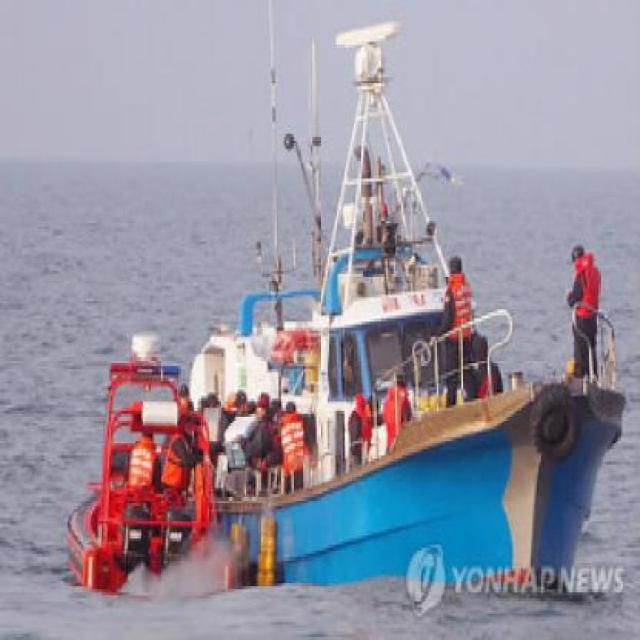fish-b: (65, 1, 639, 609)
